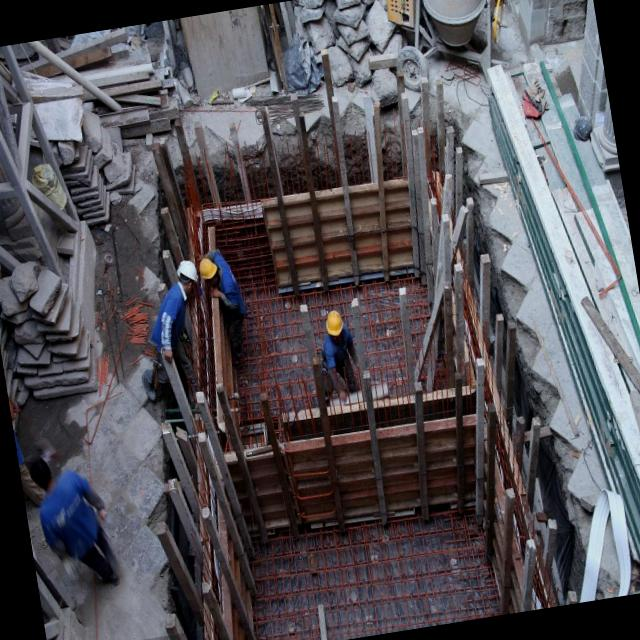helmet: (320, 304, 354, 354), (193, 251, 225, 293)
no-vest: (32, 482, 112, 578)
